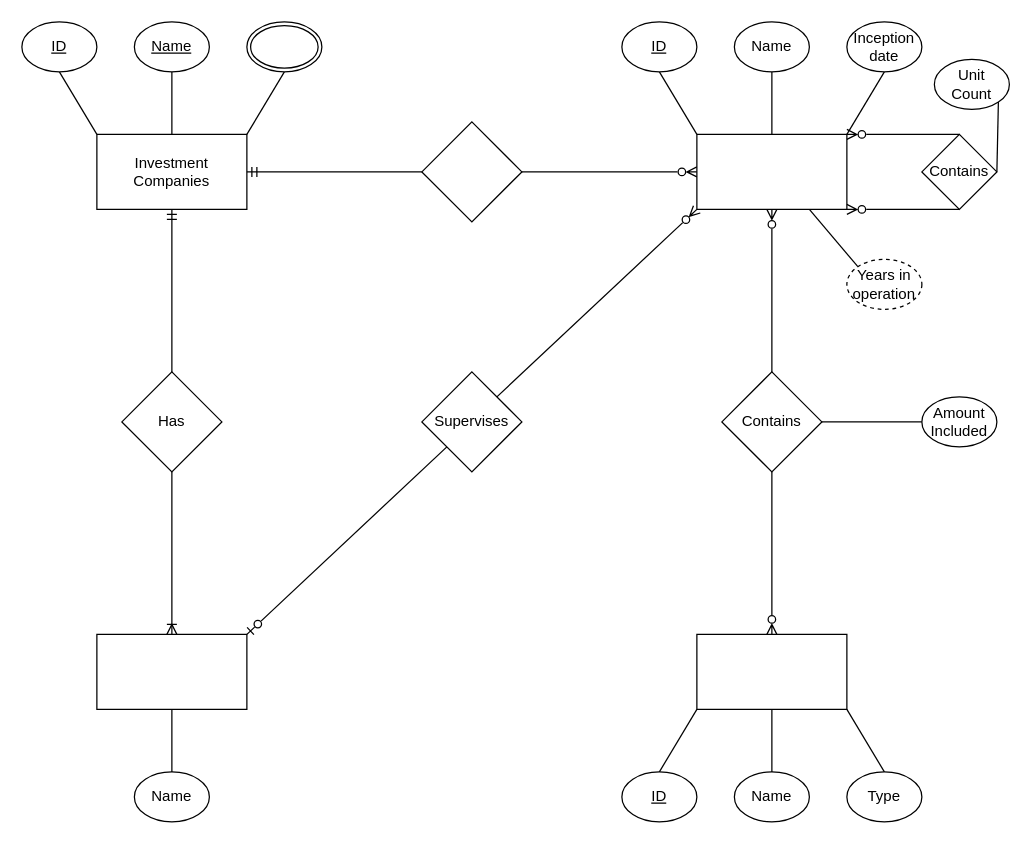
Some shapes in this 1031 by 844 pixel diagram are drawn without their labels. The shapes that lost their labels are listed below. From the top down, each one's centre as x and y in pixels, then its label:
[284,46]: Location
[471,171]: Manages
[771,171]: Mutual Fund
[171,671]: Employee
[771,671]: Security
